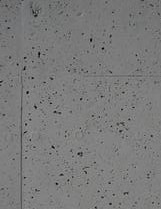Spalling: (1, 1, 161, 209)
